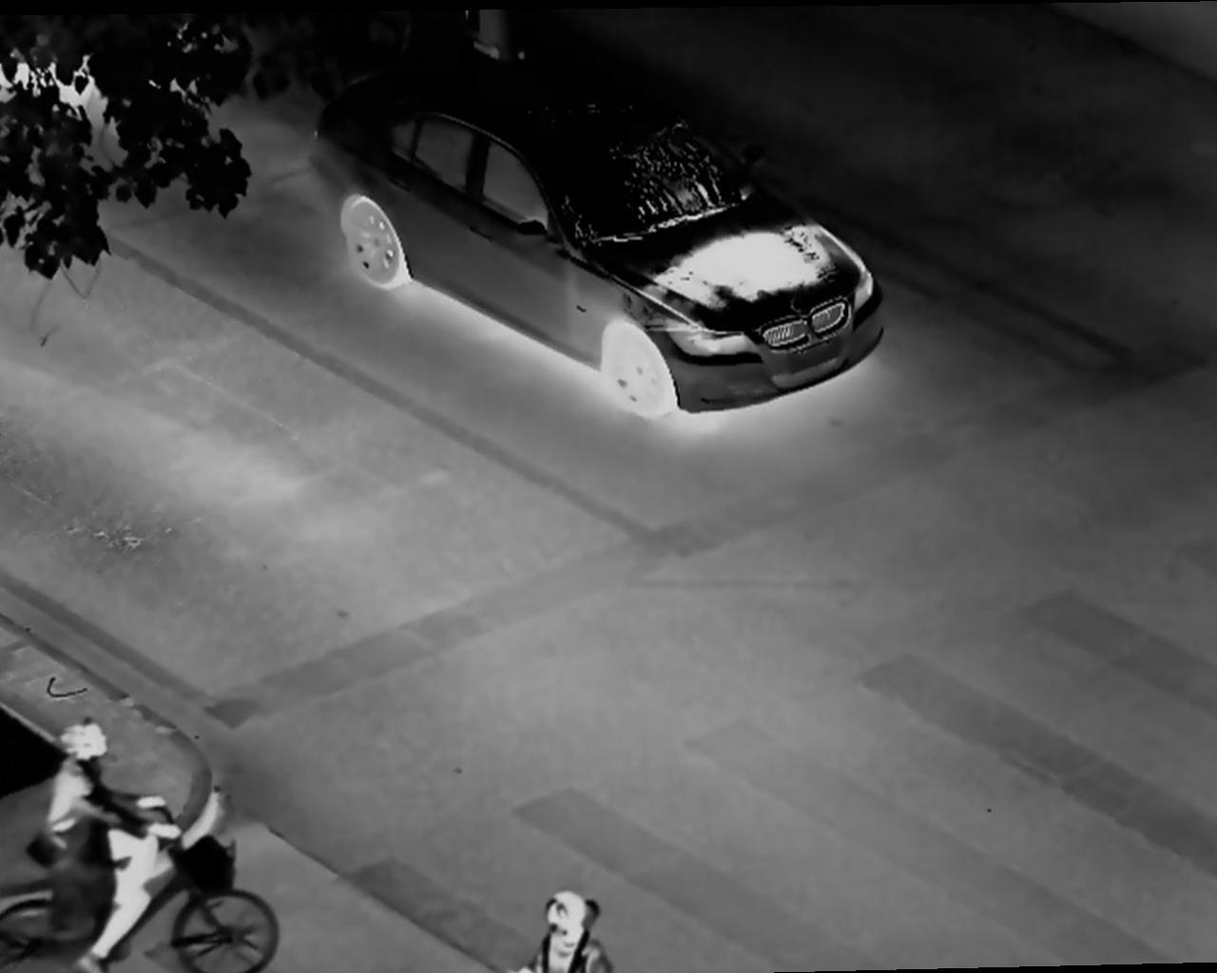person: (31, 724, 168, 971), (493, 886, 615, 973)
